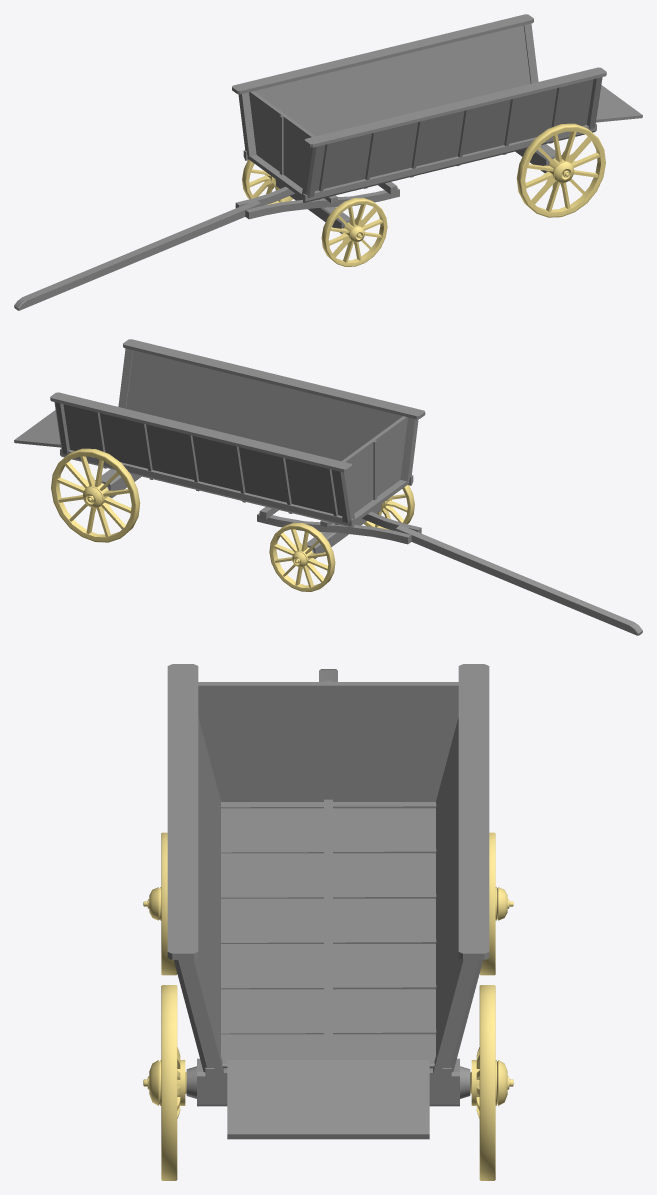
The model's file is Wagon.fbx.
3 renders of one model, top to bottom at view 1: azimuth 30°, elevation 25°; view 2: azimuth 150°, elevation 25°; view 3: azimuth 270°, elevation 25°, orthographic. The views are drawn at different scales.
Visible parts, largest first — view 1: Wagon_LP_Final; view 2: Wagon_LP_Final; view 3: Wagon_LP_Final.
Part boxes in pixels (x1,y1,x2,y2): Wagon_LP_Final: [14, 14, 642, 310]; Wagon_LP_Final: [14, 339, 642, 635]; Wagon_LP_Final: [143, 664, 513, 1180].
Bounding box in the file's own units: 731 × 195 × 153.
